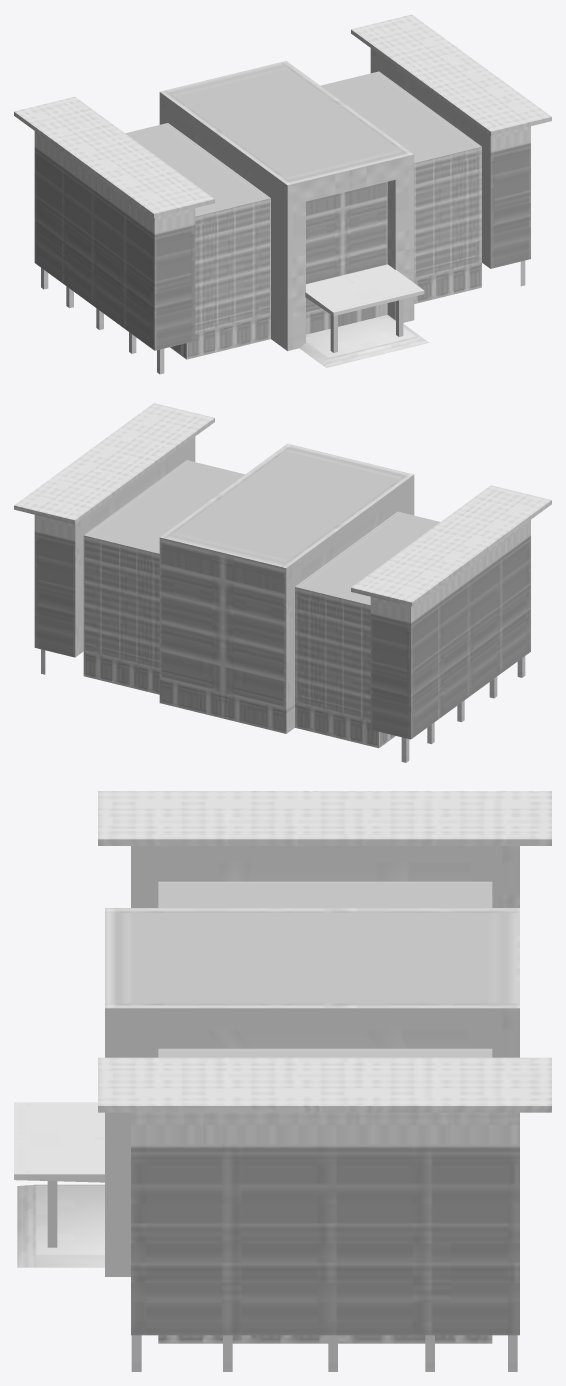
The model's file is nha_thi_dau.glb.
3 views of the same model, one above another, from view 1: azimuth 30°, elevation 25°; view 2: azimuth 150°, elevation 25°; view 3: azimuth 270°, elevation 25° (orthographic). The views are drawn at different scales.
Parts seen in each view (by area): view 1: UyBan; view 2: UyBan; view 3: UyBan.
Boxes of the visible parts, x1,y1,x2,y2 form: UyBan: (14,14,551,374); UyBan: (14,403,551,762); UyBan: (14,791,551,1371).
Bounding box in the file's own units: 60.31 × 24.95 × 43.56.
1 material, 1 textured.
